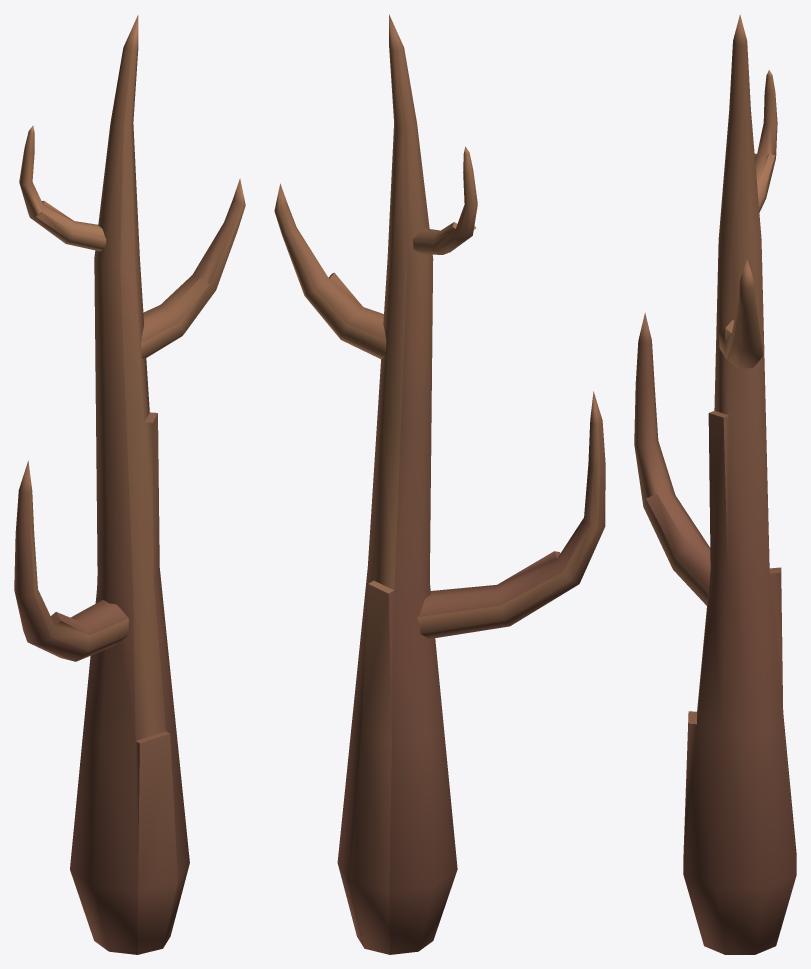
Rendered from tree_bare_2_a-CM_0Yzwl.glb.
3 renders of one model, left to right at view 1: azimuth 30°, elevation 25°; view 2: azimuth 150°, elevation 25°; view 3: azimuth 270°, elevation 25°, orthographic.
Parts seen in each view (by area): view 1: Tree_Bare_2_A_Color1; view 2: Tree_Bare_2_A_Color1; view 3: Tree_Bare_2_A_Color1.
Part boxes in pixels (left/top/right/bottom): Tree_Bare_2_A_Color1: left=14, top=15, right=245, bottom=954; Tree_Bare_2_A_Color1: left=274, top=14, right=605, bottom=954; Tree_Bare_2_A_Color1: left=634, top=14, right=796, bottom=954.
Size of the model in its own units: 1.56 by 5 by 0.78.
1 material, 1 textured.
